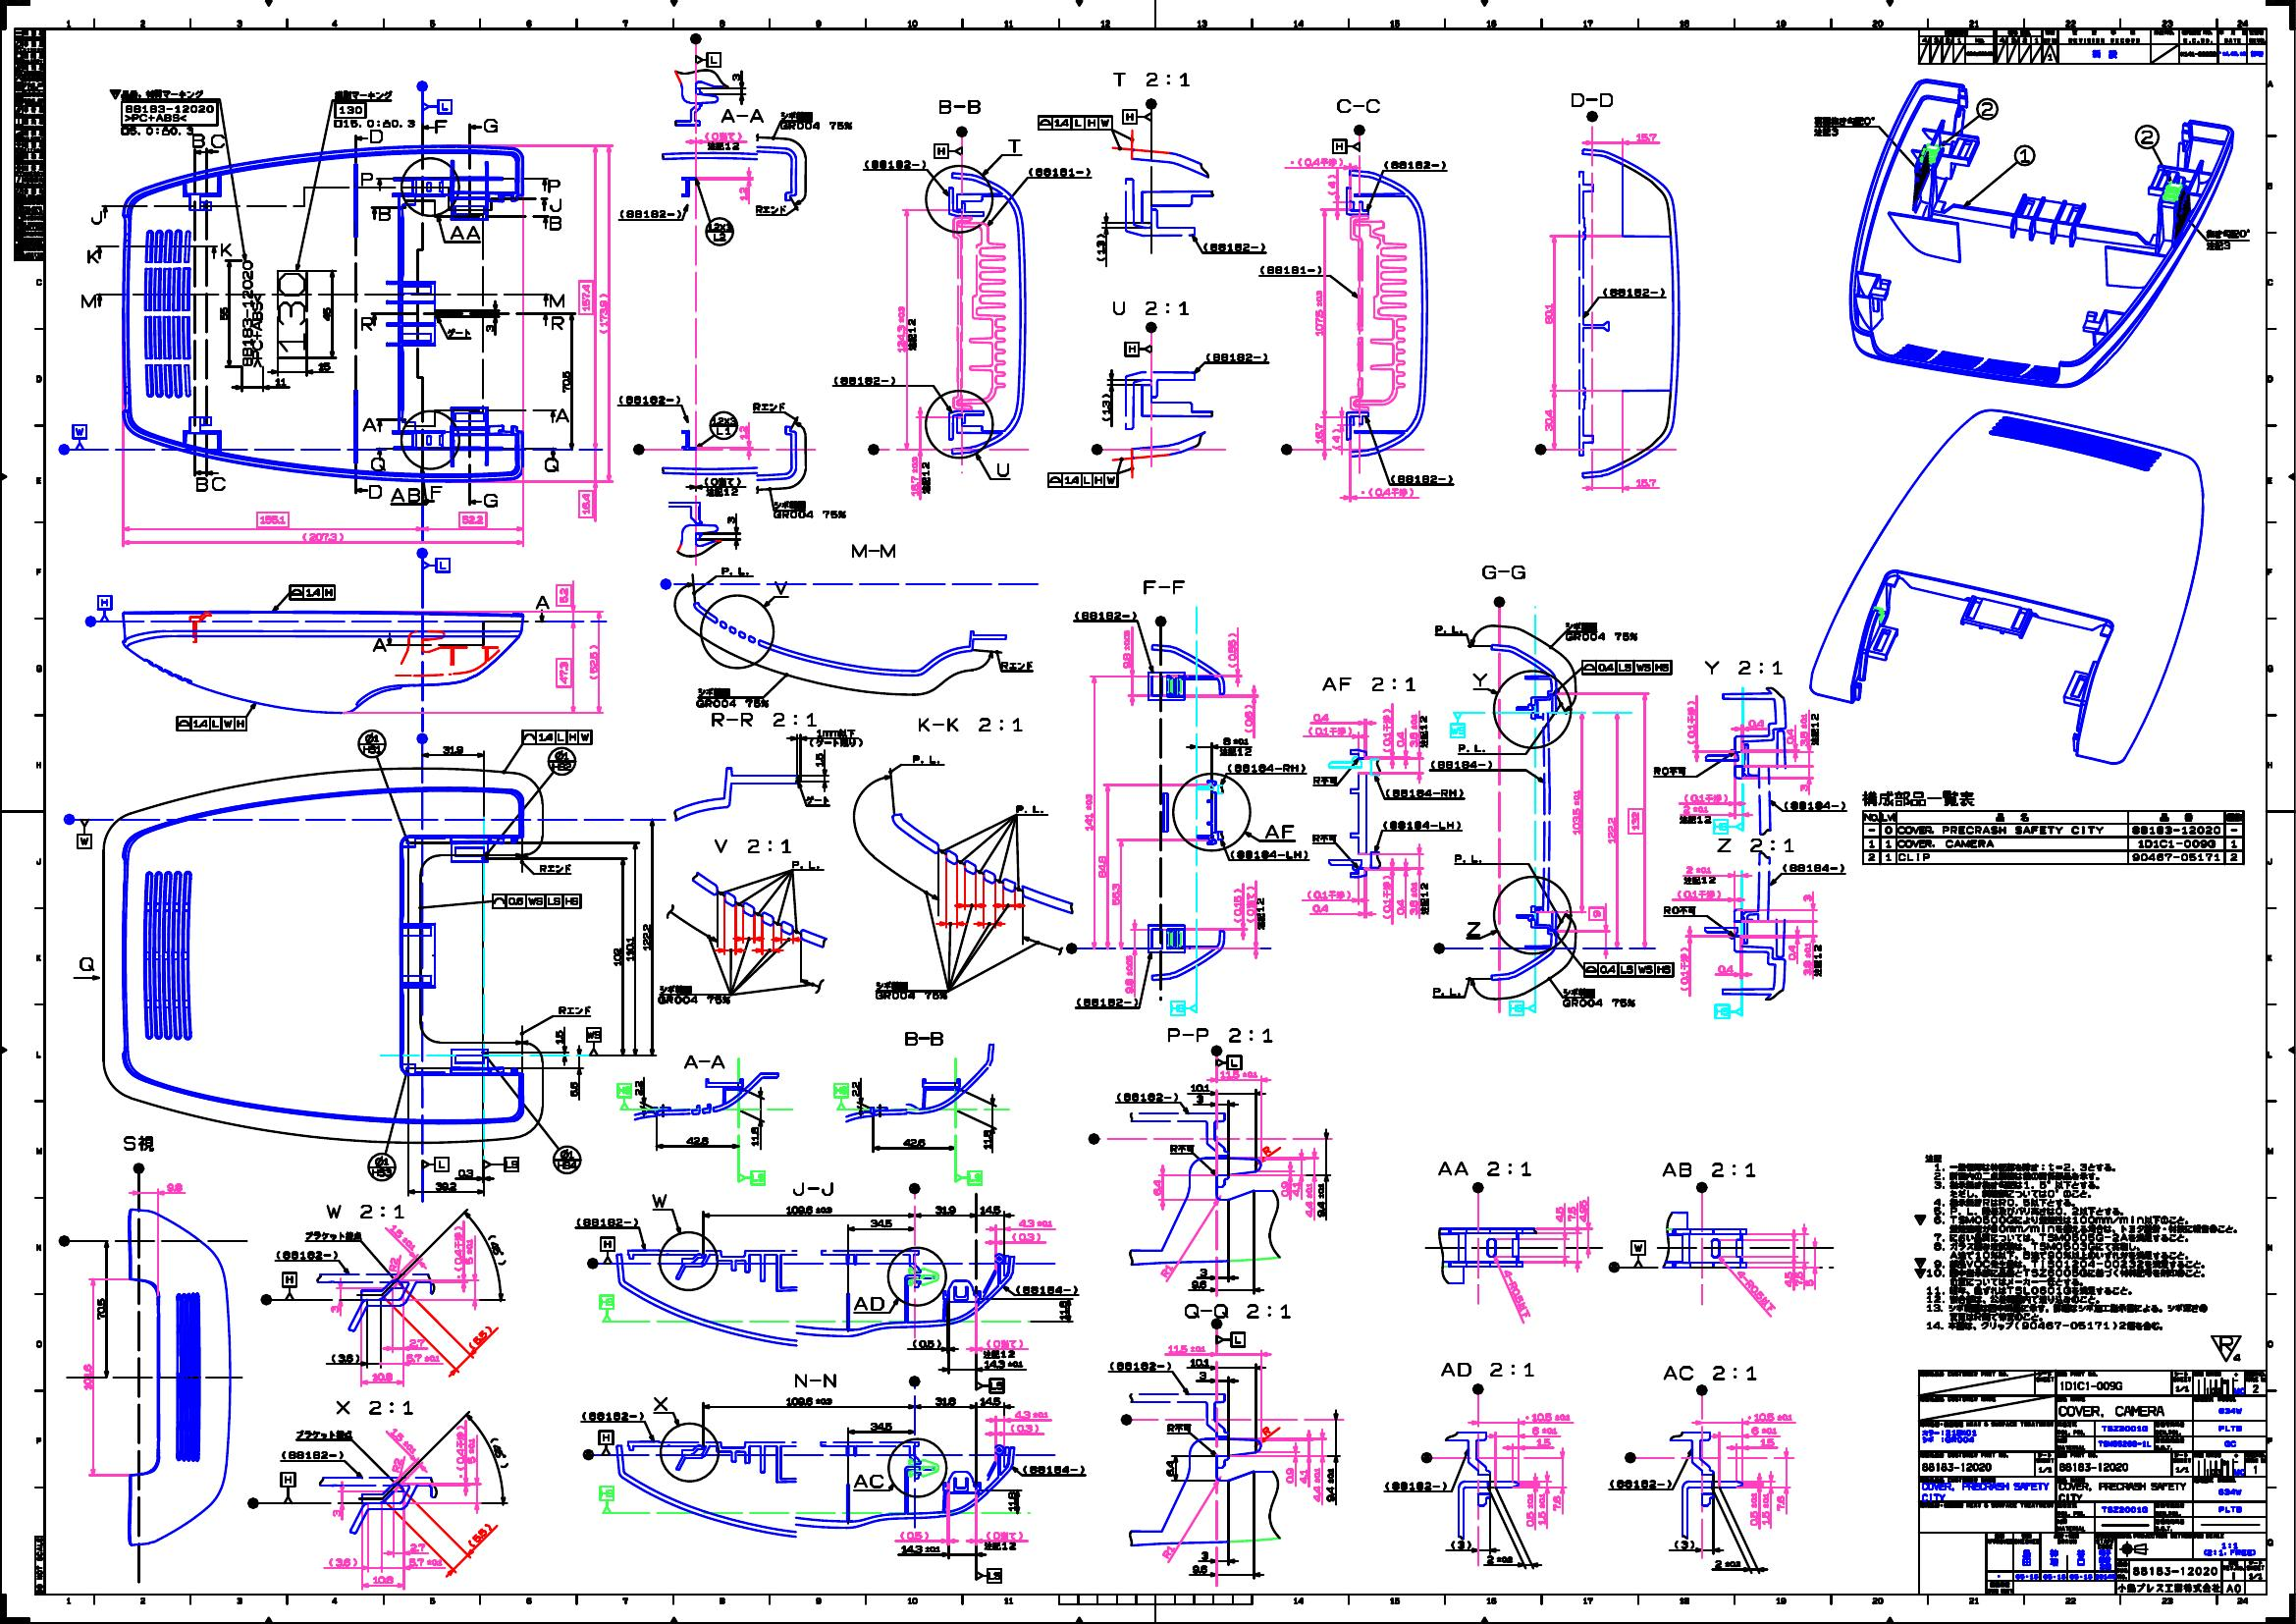anntotation_text: (1913, 1151, 2242, 1334), (1859, 786, 2247, 866), (107, 86, 216, 135), (332, 88, 416, 128), (1163, 1025, 1274, 1044), (915, 715, 1024, 735), (1660, 1362, 1757, 1383), (708, 710, 820, 728), (321, 1200, 408, 1223), (1318, 675, 1418, 694), (1439, 1360, 1537, 1380), (1660, 1160, 1757, 1179), (1560, 984, 1635, 1009), (1182, 1302, 1293, 1318), (694, 685, 769, 708), (1435, 1160, 1532, 1178), (655, 984, 733, 1005), (1563, 622, 1641, 643), (771, 499, 848, 520), (334, 1399, 416, 1418), (711, 837, 794, 856), (1702, 657, 1785, 677), (492, 891, 581, 909), (1110, 299, 1191, 318), (780, 109, 854, 130), (1811, 114, 1876, 137), (1715, 835, 1797, 852), (1112, 72, 1195, 90), (1581, 659, 1672, 675), (1583, 961, 1674, 977), (875, 981, 947, 1000), (1047, 471, 1119, 489), (1036, 114, 1114, 130), (2208, 1332, 2243, 1366), (176, 715, 248, 731), (1226, 761, 1307, 775), (1228, 845, 1309, 859), (806, 729, 864, 749), (520, 729, 590, 745), (706, 410, 740, 439), (1381, 817, 1462, 830), (1384, 786, 1465, 798), (550, 1142, 580, 1174), (546, 745, 578, 775), (357, 728, 388, 758), (704, 216, 736, 246), (1600, 283, 1667, 297), (1388, 473, 1455, 487), (2206, 228, 2250, 250), (980, 1338, 1024, 1359), (847, 543, 899, 561), (1567, 88, 1614, 107), (1138, 576, 1186, 596), (1202, 239, 1267, 253), (1028, 163, 1093, 178), (863, 156, 928, 170), (365, 1151, 395, 1181), (984, 1531, 1026, 1552), (703, 132, 745, 153), (618, 206, 682, 220), (791, 1179, 836, 1199), (1333, 97, 1383, 114), (903, 1028, 947, 1048), (121, 1134, 158, 1156), (578, 1410, 646, 1422), (279, 1448, 346, 1461), (1258, 264, 1325, 276), (1383, 1478, 1449, 1490), (1072, 608, 1138, 620), (1203, 350, 1270, 362), (1488, 1287, 1546, 1301), (1356, 483, 1414, 497), (32, 1536, 46, 1594), (703, 476, 741, 497), (682, 1053, 727, 1070), (792, 1371, 838, 1388), (1481, 564, 1527, 582), (720, 105, 766, 123), (1783, 798, 1848, 810), (1383, 158, 1448, 170), (1607, 1476, 1672, 1489), (1114, 1090, 1179, 1102), (1014, 1283, 1079, 1295), (1022, 1462, 1087, 1475), (1073, 995, 1138, 1007), (831, 374, 896, 387), (1288, 155, 1344, 169), (1781, 861, 1845, 874), (293, 1427, 355, 1439), (302, 1229, 364, 1241), (288, 584, 336, 599), (615, 394, 685, 404), (453, 1424, 466, 1483), (936, 98, 982, 114), (272, 1250, 339, 1260), (481, 1155, 520, 1172), (1799, 712, 1818, 747), (451, 1225, 464, 1280), (1108, 1360, 1172, 1371), (1430, 759, 1493, 770), (2134, 123, 2159, 149), (1975, 95, 1999, 121), (850, 1471, 885, 1489), (1261, 823, 1296, 840), (1727, 1285, 1785, 1295), (1674, 888, 1723, 900), (388, 485, 422, 503), (448, 223, 481, 241), (1678, 944, 1690, 991), (1685, 700, 1697, 747), (1307, 724, 1354, 736), (954, 1167, 984, 1186), (1121, 107, 1151, 127), (574, 1218, 639, 1227), (1381, 874, 1393, 919), (76, 819, 93, 849), (1713, 1002, 1743, 1019), (975, 1376, 1005, 1394), (2013, 144, 2034, 169), (919, 459, 933, 496), (585, 1026, 604, 1053), (1683, 793, 1730, 803), (852, 1295, 884, 1311), (1305, 889, 1353, 900), (422, 98, 453, 114), (279, 1473, 297, 1501), (615, 1083, 632, 1111), (833, 1083, 850, 1111), (597, 1485, 615, 1513), (1418, 881, 1432, 916), (1381, 707, 1391, 752), (1216, 1332, 1245, 1348), (933, 144, 963, 160), (738, 1169, 764, 1186), (1630, 1239, 1646, 1267), (422, 1156, 450, 1172), (1713, 819, 1744, 833), (1332, 139, 1360, 155), (1449, 710, 1465, 738), (538, 861, 573, 874), (1426, 984, 1462, 997), (1418, 714, 1430, 749), (599, 1294, 613, 1323), (1509, 1000, 1535, 1016), (599, 1236, 615, 1262), (975, 1568, 1001, 1584), (1170, 1000, 1196, 1016), (1124, 341, 1151, 357), (283, 1272, 297, 1301), (422, 559, 450, 573), (97, 596, 112, 620), (1662, 905, 1699, 916), (696, 53, 720, 69), (750, 401, 787, 411), (1014, 803, 1045, 816), (72, 424, 88, 448), (79, 292, 98, 311), (555, 1004, 590, 1014), (1653, 766, 1688, 777), (365, 130, 386, 148), (207, 475, 228, 492), (1256, 895, 1267, 930), (550, 408, 571, 425), (1166, 1142, 1196, 1155), (910, 752, 940, 765), (1813, 944, 1823, 977), (1217, 747, 1251, 758), (906, 316, 917, 350), (754, 204, 787, 214), (216, 241, 235, 258), (429, 118, 448, 135), (355, 170, 374, 188), (372, 204, 392, 221), (357, 315, 376, 332), (360, 417, 379, 434), (83, 248, 102, 265), (86, 207, 105, 225), (207, 134, 227, 151), (188, 132, 207, 149), (543, 457, 562, 475), (362, 482, 381, 499), (427, 483, 446, 501), (481, 492, 501, 510), (543, 214, 562, 232), (545, 195, 564, 213), (543, 176, 562, 193), (481, 118, 501, 135), (1453, 852, 1484, 863), (718, 564, 750, 575), (1000, 659, 1031, 670), (1432, 624, 1463, 634), (805, 794, 831, 807), (1216, 1056, 1242, 1069), (1456, 742, 1486, 752), (1681, 875, 1716, 884), (193, 478, 211, 496), (771, 578, 789, 596), (1470, 671, 1488, 689), (994, 462, 1012, 480), (369, 455, 386, 473), (546, 315, 564, 332), (546, 292, 564, 309), (1465, 919, 1481, 939), (650, 1396, 669, 1411), (599, 1431, 611, 1455), (1165, 1422, 1193, 1432), (1679, 816, 1713, 824), (56, 1234, 74, 1250), (77, 956, 95, 972), (532, 592, 550, 608), (791, 859, 822, 868), (1279, 441, 1296, 457), (650, 1193, 668, 1209), (583, 1257, 601, 1272), (1007, 137, 1022, 155), (1312, 775, 1337, 786), (130, 1160, 146, 1176), (1532, 441, 1548, 457), (632, 441, 648, 457), (864, 441, 880, 457), (1583, 109, 1600, 123), (1312, 833, 1339, 842), (371, 638, 386, 652), (1351, 123, 1367, 137), (657, 576, 673, 591), (446, 329, 471, 337), (1470, 1179, 1484, 1193), (1144, 97, 1158, 111), (1419, 1450, 1433, 1464), (1119, 1411, 1133, 1425), (1493, 594, 1507, 608), (415, 79, 429, 93), (83, 615, 98, 627), (1693, 1383, 1709, 1396), (1695, 1179, 1709, 1192), (415, 547, 429, 559), (1432, 942, 1446, 954), (1087, 1132, 1101, 1144), (246, 1494, 258, 1508), (1065, 942, 1079, 954), (1089, 443, 1103, 455), (689, 32, 703, 44), (58, 441, 70, 455), (1210, 1044, 1223, 1056), (908, 1183, 921, 1195), (1154, 613, 1166, 626), (956, 125, 968, 137), (415, 733, 429, 743), (1607, 1260, 1621, 1271), (1209, 1318, 1223, 1329), (906, 1376, 921, 1387), (581, 1450, 596, 1461), (1145, 320, 1156, 334), (260, 1294, 272, 1304), (1623, 1452, 1635, 1462), (63, 814, 74, 824), (1472, 1383, 1483, 1394)
dimension_text: (894, 302, 906, 353), (783, 1202, 833, 1214), (255, 511, 288, 529), (578, 279, 594, 315), (783, 1396, 834, 1406), (1123, 953, 1135, 995), (1314, 288, 1325, 337), (1523, 1411, 1570, 1422), (299, 531, 346, 541), (383, 1230, 423, 1243), (458, 511, 487, 529), (1570, 789, 1581, 835), (555, 657, 571, 687), (1748, 1411, 1792, 1422), (910, 455, 921, 499), (597, 290, 608, 334), (578, 490, 596, 517), (408, 1555, 444, 1568), (1242, 703, 1256, 735), (1121, 629, 1131, 671), (899, 1543, 942, 1554), (490, 1234, 504, 1265), (1224, 633, 1237, 668), (1325, 1468, 1337, 1503), (1535, 1492, 1548, 1527), (587, 642, 597, 682), (1166, 1343, 1207, 1353), (1082, 793, 1093, 831), (1219, 1069, 1258, 1079), (1012, 1410, 1051, 1420), (555, 584, 573, 606), (1627, 808, 1643, 833), (1407, 881, 1418, 917), (1231, 888, 1242, 924), (1407, 712, 1418, 749), (1310, 1466, 1321, 1503), (1760, 1490, 1771, 1527), (1017, 1218, 1054, 1229), (1316, 1181, 1326, 1218), (1303, 1181, 1314, 1218), (1008, 1422, 1040, 1434), (494, 1436, 506, 1468), (464, 1529, 495, 1541), (404, 1352, 441, 1362), (1094, 232, 1107, 264), (1525, 1492, 1535, 1527), (982, 1360, 1024, 1369), (385, 1434, 420, 1445), (81, 1360, 93, 1390), (912, 1338, 942, 1350), (899, 1529, 929, 1541), (329, 1555, 358, 1568), (1100, 392, 1112, 422), (1802, 942, 1813, 975), (1245, 886, 1254, 924), (330, 1352, 362, 1362), (464, 1330, 495, 1341), (464, 1236, 474, 1267), (1542, 406, 1555, 432), (1750, 1492, 1758, 1527), (1449, 1538, 1474, 1550), (1672, 1538, 1697, 1550), (1634, 132, 1658, 144), (1606, 816, 1616, 844), (1221, 735, 1249, 745), (641, 923, 652, 951), (1713, 1559, 1741, 1570), (1750, 1425, 1778, 1436), (625, 935, 636, 961), (1530, 1425, 1556, 1436), (1010, 1232, 1042, 1241), (1310, 902, 1330, 916), (1683, 865, 1713, 874), (683, 1135, 708, 1146), (434, 1181, 458, 1192), (95, 1295, 105, 1320), (1151, 1178, 1163, 1199), (1058, 1299, 1070, 1320), (868, 1218, 892, 1229), (933, 1204, 957, 1214), (870, 1420, 894, 1431), (371, 1371, 395, 1381), (1486, 1555, 1514, 1564), (750, 1125, 761, 1148), (441, 743, 464, 754), (980, 1127, 991, 1149), (933, 1396, 956, 1406), (978, 1397, 1001, 1408), (1634, 478, 1657, 489), (1326, 174, 1337, 197), (1683, 805, 1709, 814), (1098, 854, 1107, 881), (901, 1137, 928, 1146), (1332, 427, 1340, 453), (1188, 1359, 1209, 1369), (1189, 1081, 1210, 1091), (560, 371, 571, 392), (1588, 907, 1606, 919), (1112, 882, 1121, 907), (1579, 1199, 1588, 1223), (978, 1206, 1003, 1214), (1395, 896, 1405, 916), (1312, 712, 1332, 722), (611, 947, 622, 967), (457, 1167, 476, 1178), (163, 1181, 183, 1192), (1774, 1494, 1785, 1513), (388, 1459, 408, 1469), (1746, 717, 1765, 728), (1542, 304, 1553, 323), (372, 1575, 395, 1584), (1314, 422, 1323, 445), (467, 1436, 474, 1464), (1549, 1496, 1562, 1512), (813, 750, 824, 768), (1158, 1265, 1175, 1276), (1284, 1468, 1295, 1485), (1191, 1564, 1209, 1575), (1794, 1271, 1804, 1288), (1565, 1204, 1576, 1222), (1555, 1206, 1565, 1223), (1007, 1490, 1015, 1512), (408, 1338, 425, 1348), (1785, 726, 1795, 743), (1716, 965, 1736, 974), (634, 1079, 643, 1098), (569, 1079, 578, 1098), (850, 1079, 859, 1098), (1291, 1179, 1300, 1199), (383, 1260, 402, 1269), (1165, 1461, 1175, 1476), (1760, 1436, 1776, 1446), (1783, 1271, 1794, 1287), (1397, 731, 1405, 749), (555, 1028, 564, 1046), (1298, 1468, 1307, 1485), (1535, 1438, 1553, 1446), (1281, 1179, 1289, 1197), (1801, 891, 1813, 903), (218, 306, 228, 320), (1788, 944, 1797, 960), (1191, 1280, 1207, 1288), (1159, 1547, 1175, 1555), (408, 1543, 423, 1552), (316, 362, 332, 371), (323, 306, 332, 322), (1260, 1425, 1272, 1436), (272, 378, 286, 387), (1198, 1267, 1209, 1278), (1261, 1146, 1272, 1156), (1799, 782, 1809, 793), (1196, 1093, 1205, 1104), (1198, 1369, 1207, 1380), (1200, 1550, 1209, 1561), (1804, 1278, 1815, 1287), (330, 1508, 339, 1519), (726, 515, 736, 524), (485, 323, 495, 332), (731, 72, 740, 81)
object: (98, 763, 546, 1142), (1806, 404, 2208, 768), (116, 139, 529, 482), (1846, 72, 2236, 390), (661, 132, 806, 492), (119, 608, 523, 717), (669, 578, 1008, 701), (613, 1438, 1015, 1538), (1470, 624, 1576, 1004), (611, 1248, 1015, 1346), (1574, 146, 1681, 482), (126, 1206, 232, 1547), (1121, 142, 1219, 462), (1700, 684, 1790, 1004), (1149, 640, 1230, 982), (1342, 169, 1430, 457), (945, 169, 1029, 462), (1124, 1109, 1282, 1265), (1126, 1390, 1284, 1545), (889, 812, 1072, 914), (838, 1040, 996, 1121), (690, 872, 827, 949), (1442, 1431, 1521, 1543), (1667, 1431, 1748, 1540), (625, 1069, 782, 1120), (1325, 747, 1384, 877), (671, 765, 805, 823), (314, 1272, 436, 1334), (318, 1475, 437, 1534), (1437, 1225, 1539, 1285), (1665, 1211, 1750, 1269), (671, 67, 734, 128), (666, 499, 722, 557)
title_block: (1918, 1369, 2266, 1596), (1918, 28, 2266, 63), (12, 26, 46, 260)
